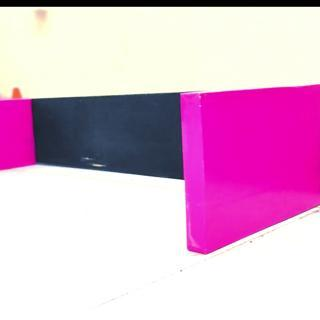xparking: (182, 93, 320, 235), (3, 101, 33, 168)
